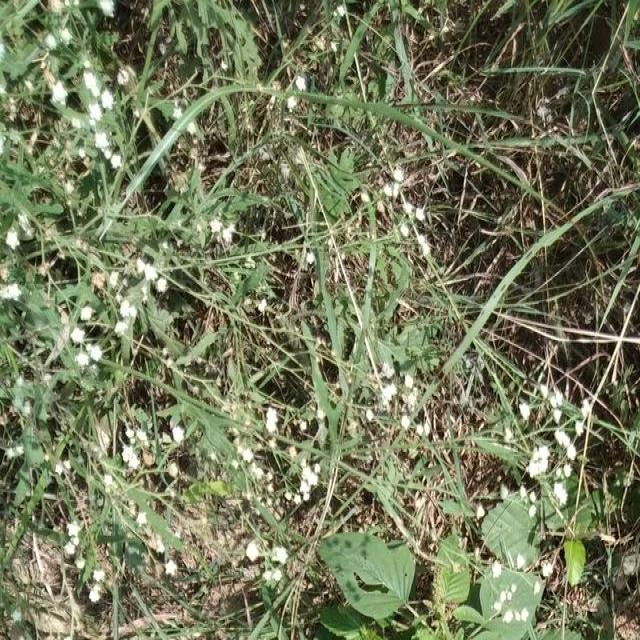weed: (195, 69, 329, 459), (27, 26, 158, 350), (17, 383, 161, 566), (318, 543, 546, 627), (512, 388, 591, 509), (363, 155, 432, 270)
